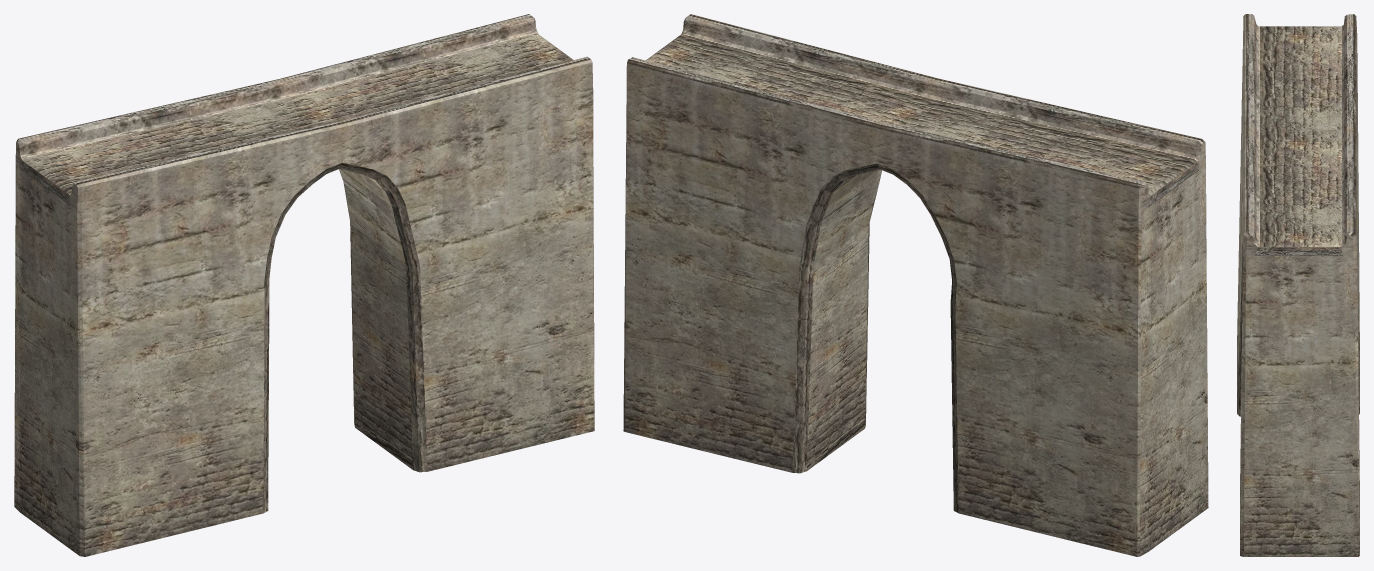
Rendered from TW2_5_ADDON_03_5-transformed.glb.
3 views of the same model, side by side, from view 1: azimuth 30°, elevation 25°; view 2: azimuth 150°, elevation 25°; view 3: azimuth 270°, elevation 25° (orthographic). The views are drawn at different scales.
Parts seen in each view (by area): view 1: default; view 2: default; view 3: default.
Part boxes in pixels (box(x1,y1,x2,y2)): default: box(14, 14, 594, 556); default: box(623, 14, 1208, 556); default: box(1237, 14, 1359, 556).
Size of the model in its own units: 6.52 by 4.46 by 1.53.
Materials: 1 (1 with a texture image).
